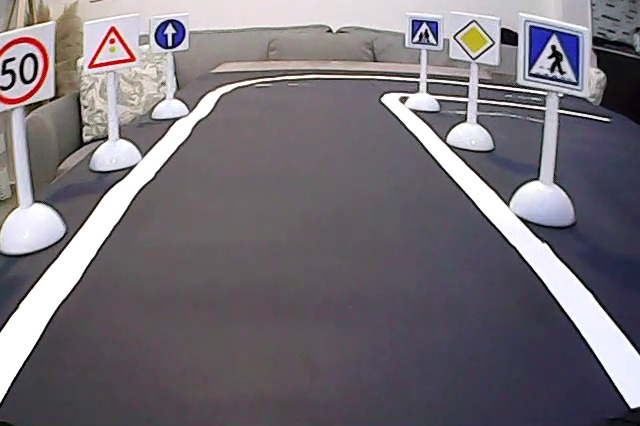pedestrian crossing: (525, 20, 584, 93)
red light: (85, 20, 141, 71)
school crossing: (409, 17, 442, 49)
speed limit 50: (1, 32, 52, 109)
